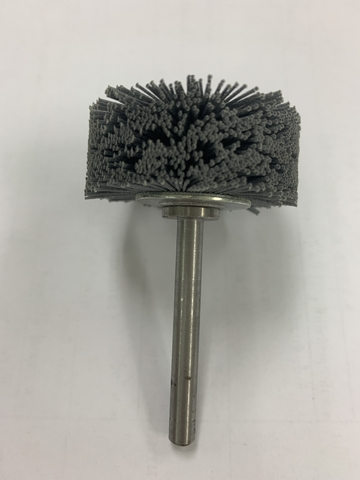Wheel Brush: (82, 65, 322, 450), (85, 62, 307, 429), (108, 70, 305, 368), (47, 54, 308, 276), (48, 60, 305, 260)
